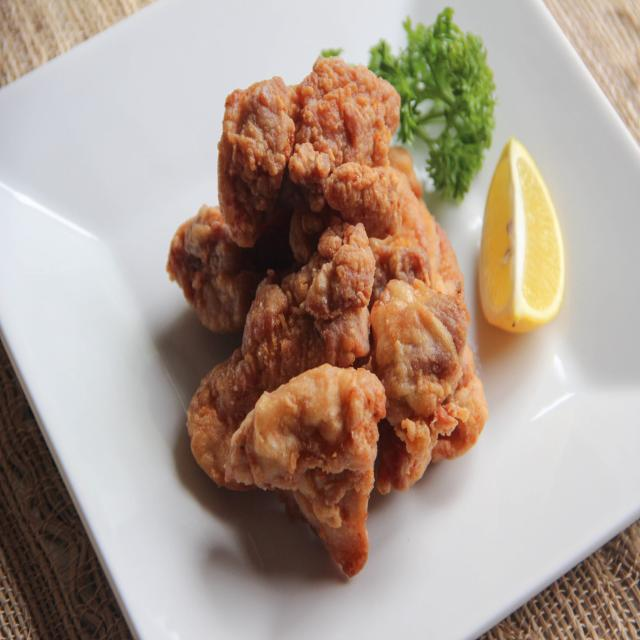Frango: (165, 52, 488, 580)
